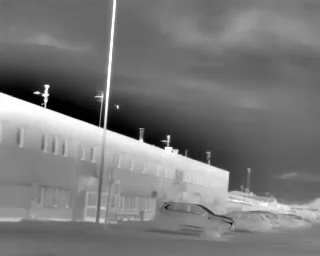HELICOPTER: (113, 102, 123, 113)
